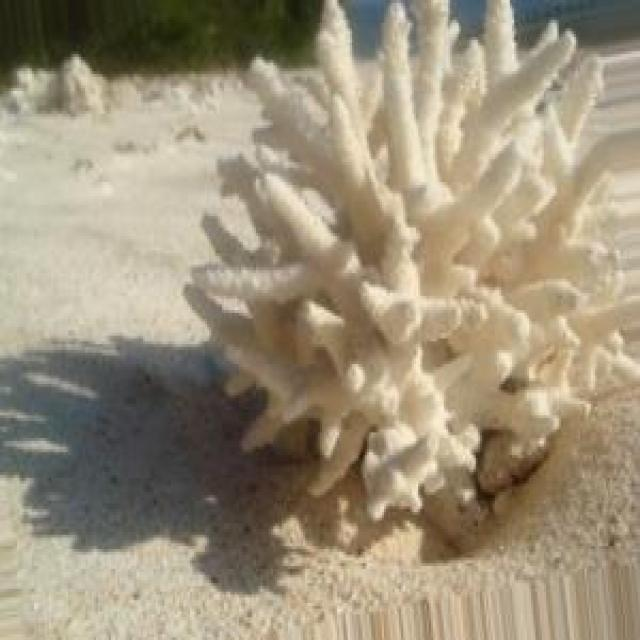bleached coral: (185, 0, 640, 548)
